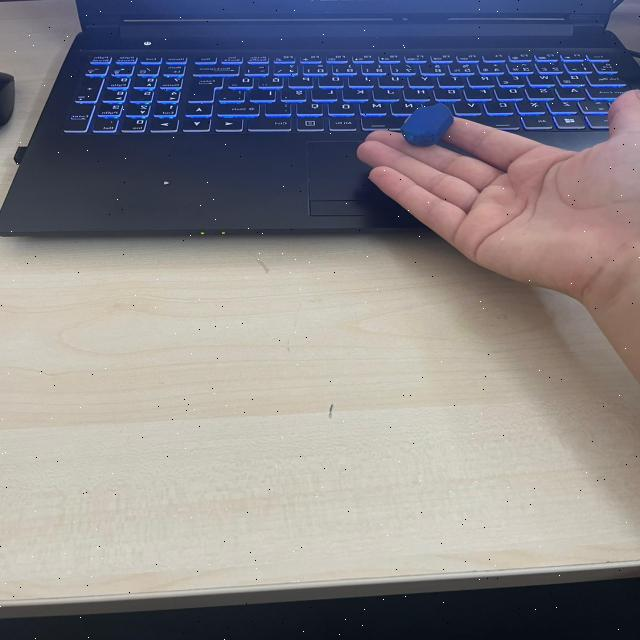eraser: (400, 100, 458, 146)
